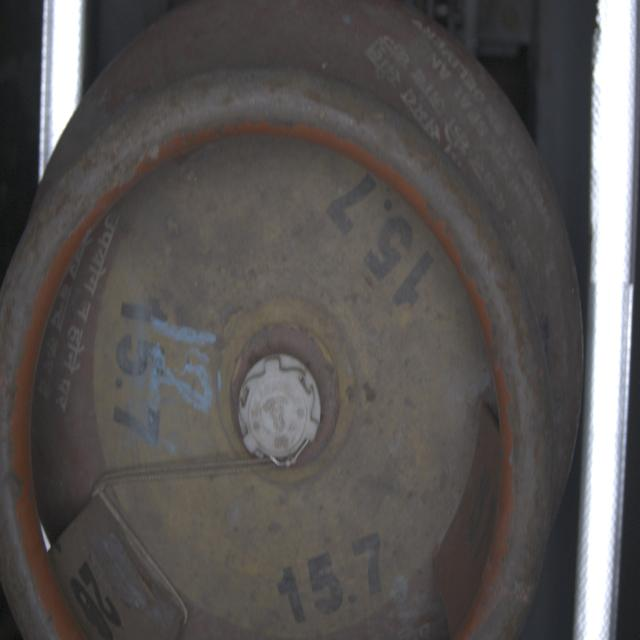Cap: (240, 353, 325, 471)
